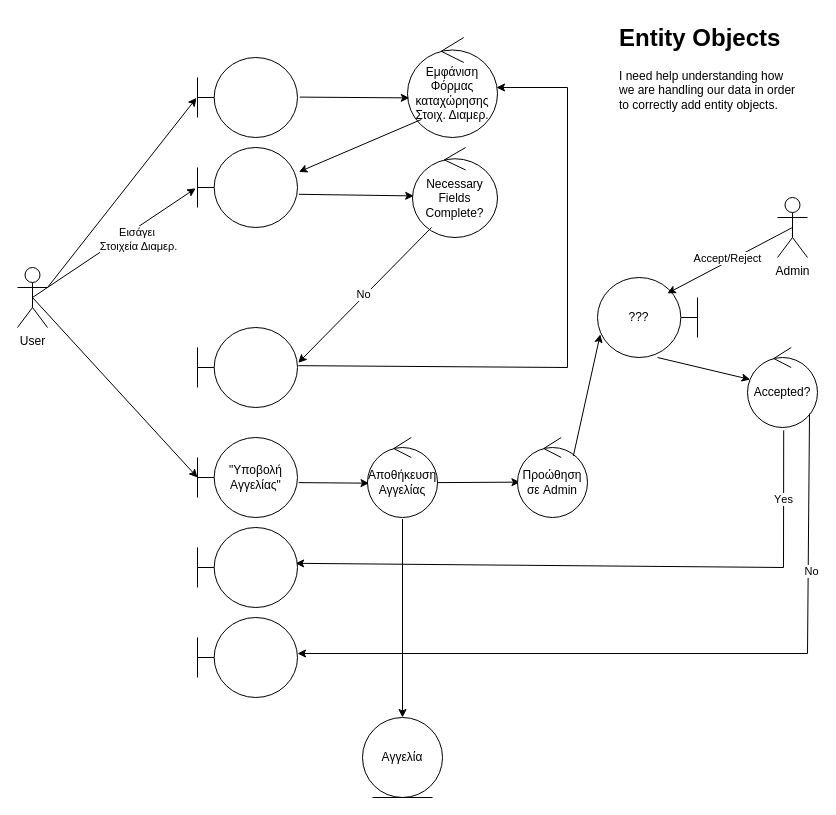
Image size: 836x815. Some labels were removed from this diagram. Here are the shapes that lost their labels. From the top down, the centre of each, then its label:
(247,97): "Δημιουργία Αγγελίας"
(247,187): Φόρμα Καταχώρησης Στοιχ. Διαμερ.
(247,367): "Complete all necessary fields" message
(247,567): Eιδοποίηση Επιβαιβέωσης
(247,657): Ειδοποίηση Απόρριψης +Λόγο
